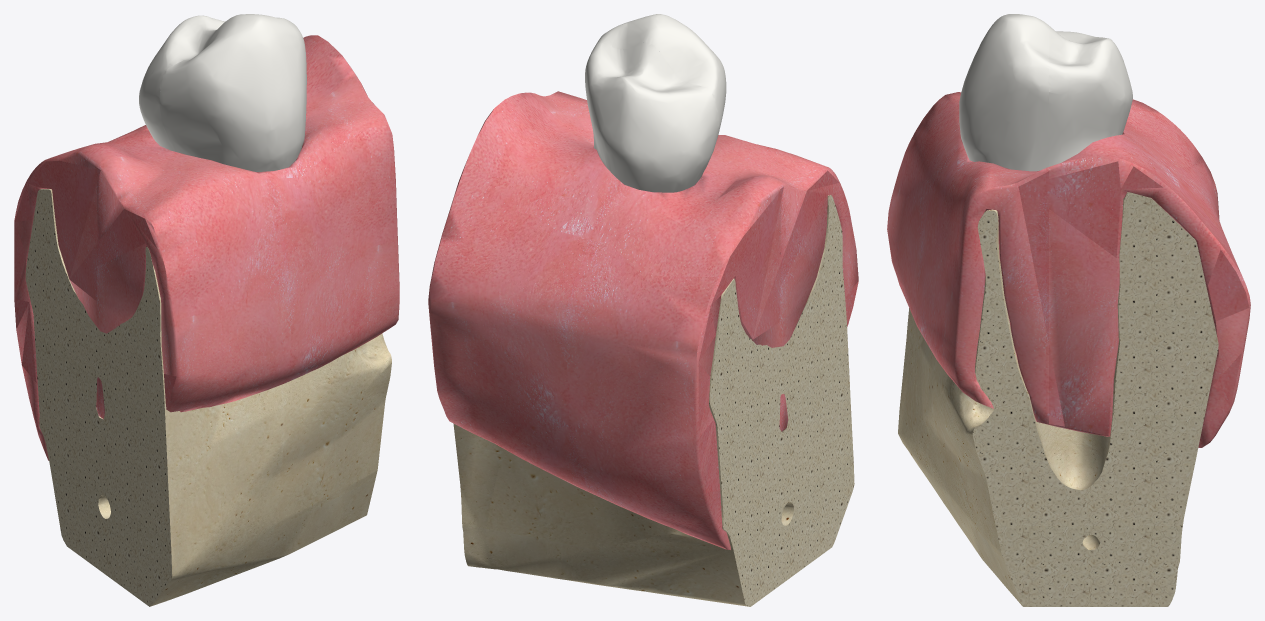
3 renders of one model, left to right at view 1: azimuth 30°, elevation 25°; view 2: azimuth 150°, elevation 25°; view 3: azimuth 270°, elevation 25°, orthographic.
Visible parts, largest first — view 1: gingiva_b, kompakta_b, schmelz_b, kompakta_a, gingiva_a, schmelz_a; view 2: gingiva_a, kompakta_a, kompakta_b, schmelz_a, gingiva_b, schmelz_b; view 3: kompakta_a, gingiva_a, gingiva_b, kompakta_b, schmelz_b, schmelz_a.
Boxes of the visible parts, bbox=[...] form: gingiva_b: bbox=[97, 70, 399, 418]; kompakta_b: bbox=[97, 246, 391, 606]; schmelz_b: bbox=[159, 14, 306, 171]; kompakta_a: bbox=[25, 189, 108, 567]; gingiva_a: bbox=[14, 35, 352, 460]; schmelz_a: bbox=[139, 15, 225, 151]; gingiva_a: bbox=[428, 92, 780, 549]; kompakta_a: bbox=[453, 278, 780, 606]; kompakta_b: bbox=[780, 195, 854, 584]; schmelz_a: bbox=[585, 42, 718, 192]; gingiva_b: bbox=[529, 91, 858, 431]; schmelz_b: bbox=[595, 14, 726, 140]; kompakta_a: bbox=[1049, 192, 1218, 606]; gingiva_a: bbox=[1049, 99, 1250, 447]; gingiva_b: bbox=[887, 92, 1048, 424]; kompakta_b: bbox=[898, 209, 1048, 606]; schmelz_b: bbox=[959, 14, 1048, 171]; schmelz_a: bbox=[1049, 26, 1132, 166].
Size of the model in its own units: 0.0146 by 0.0288 by 0.0178.
Materials: 21 (8 with a texture image).
